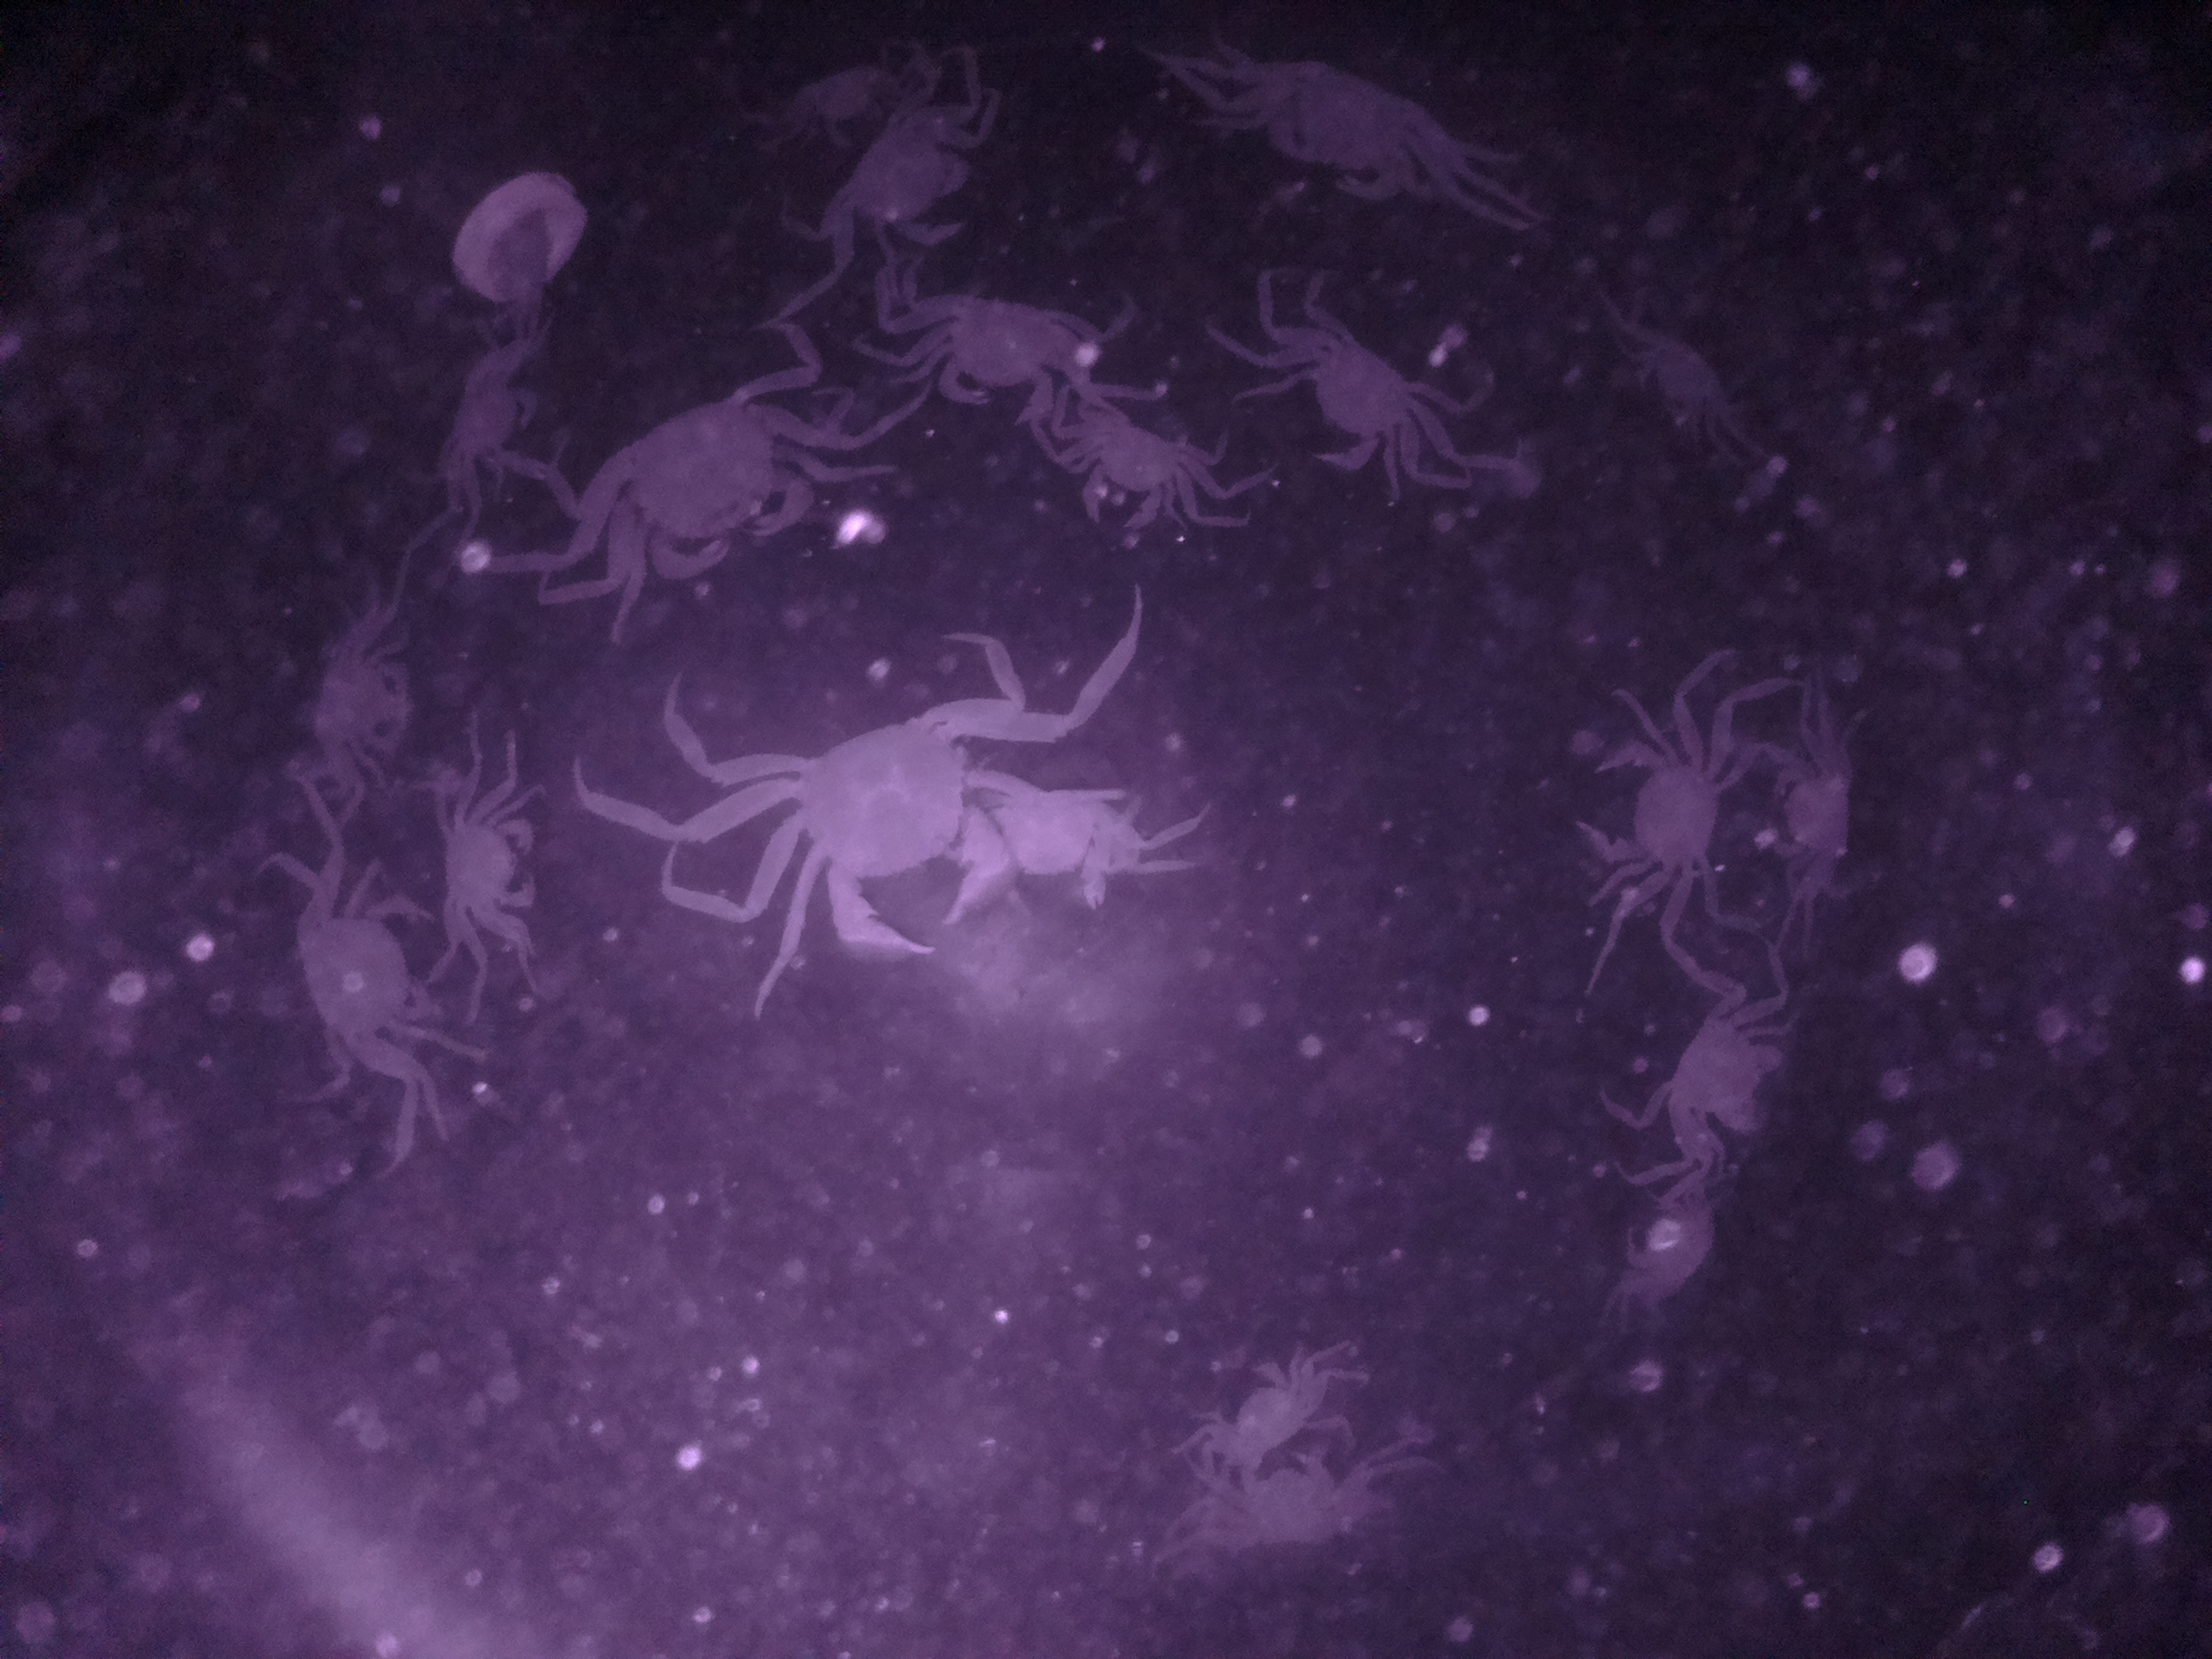Crab: (751, 697, 1021, 964), (592, 375, 846, 582), (1625, 974, 1797, 1211), (258, 875, 441, 1075), (1261, 308, 1465, 483), (1569, 718, 1756, 908), (820, 113, 1021, 256), (895, 272, 1071, 425), (1043, 408, 1224, 530), (1170, 1349, 1327, 1480), (430, 793, 573, 924)
